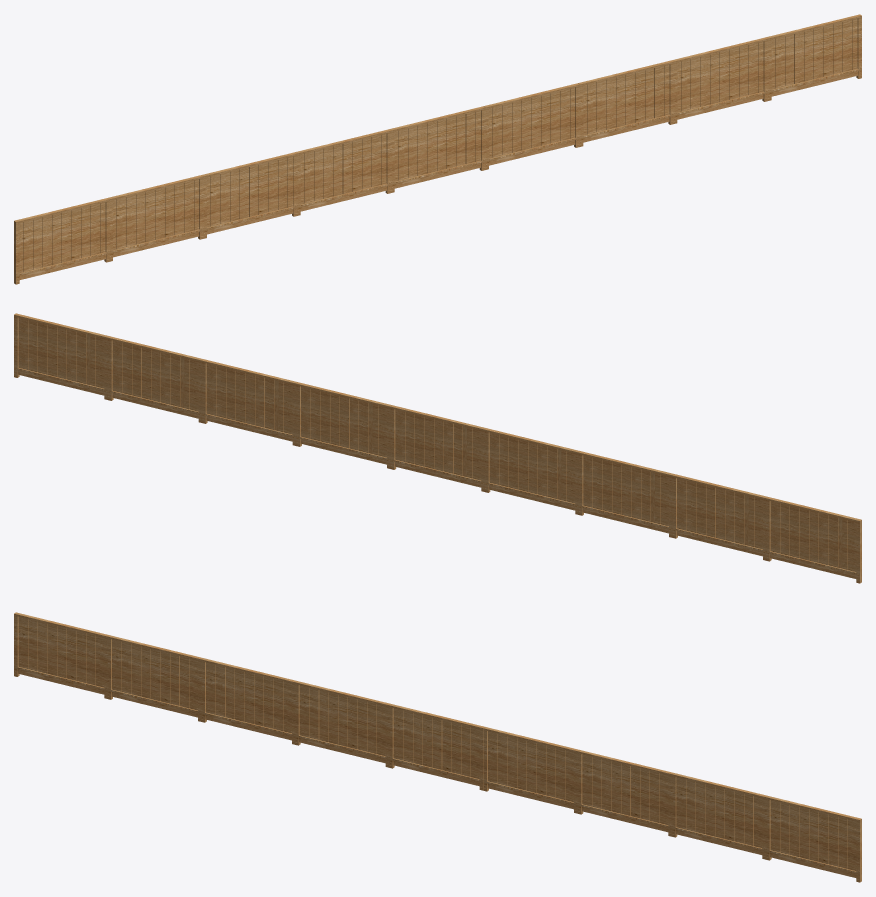
Rendered from LFrontFence.obj.
3 views of the same model, one above another, from view 1: azimuth 30°, elevation 25°; view 2: azimuth 150°, elevation 25°; view 3: azimuth 330°, elevation 25° (orthographic).
Visible parts, largest first — view 1: friendly_fence_v01_f1:friendly_fence_v01_f1:friendly_fence_v01_f; view 2: friendly_fence_v01_f1:friendly_fence_v01_f1:friendly_fence_v01_f; view 3: friendly_fence_v01_f1:friendly_fence_v01_f1:friendly_fence_v01_f.
Part boxes in pixels (x1,y1,x2,y2): friendly_fence_v01_f1:friendly_fence_v01_f1:friendly_fence_v01_f: [14, 14, 861, 284]; friendly_fence_v01_f1:friendly_fence_v01_f1:friendly_fence_v01_f: [14, 313, 861, 583]; friendly_fence_v01_f1:friendly_fence_v01_f1:friendly_fence_v01_f: [14, 612, 861, 882].
Size of the model in its own units: 77.29 by 5.46 by 0.3032.
